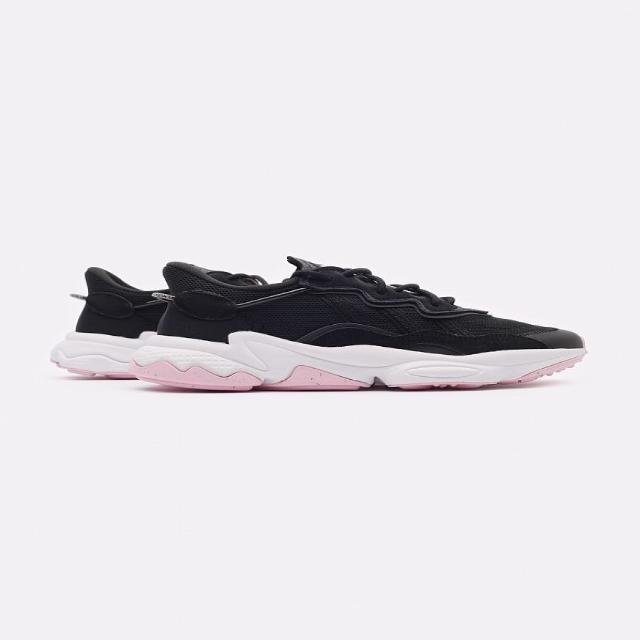shoes: (139, 245, 589, 396)
